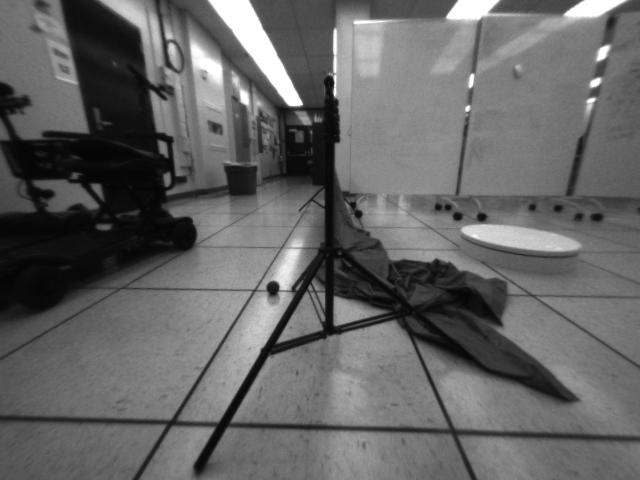dogtoy: (261, 277, 284, 300)
